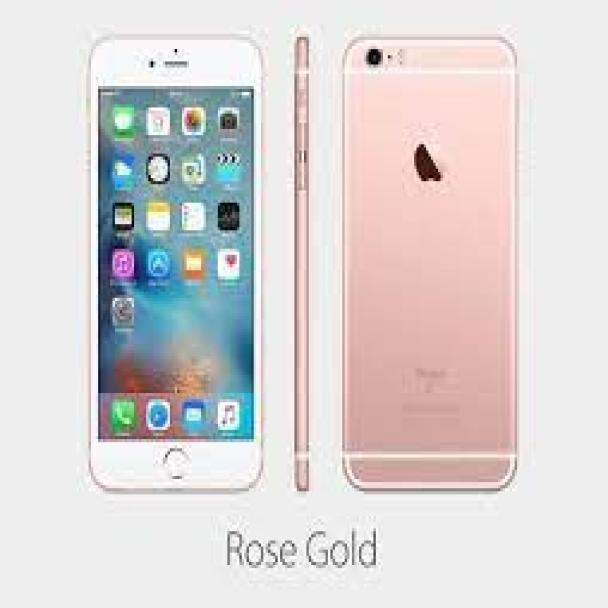Handphone: (342, 34, 524, 491), (86, 37, 264, 497)
